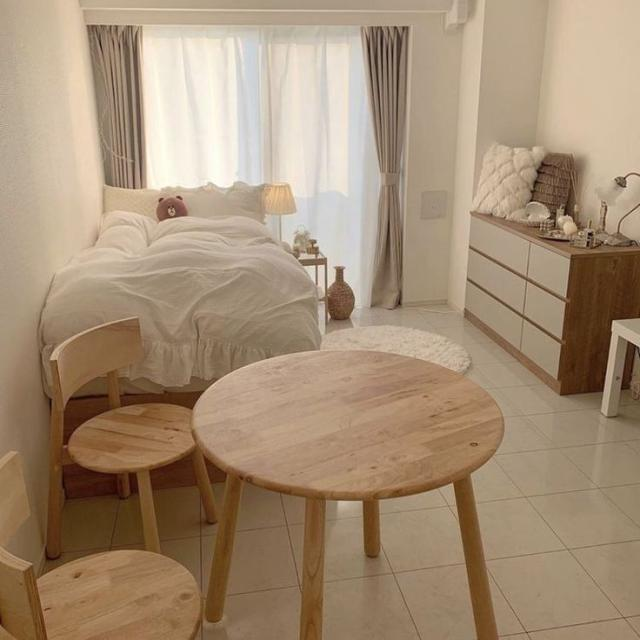obstacle: (190, 348, 506, 638), (37, 186, 323, 394), (44, 314, 219, 558), (463, 210, 639, 396)
